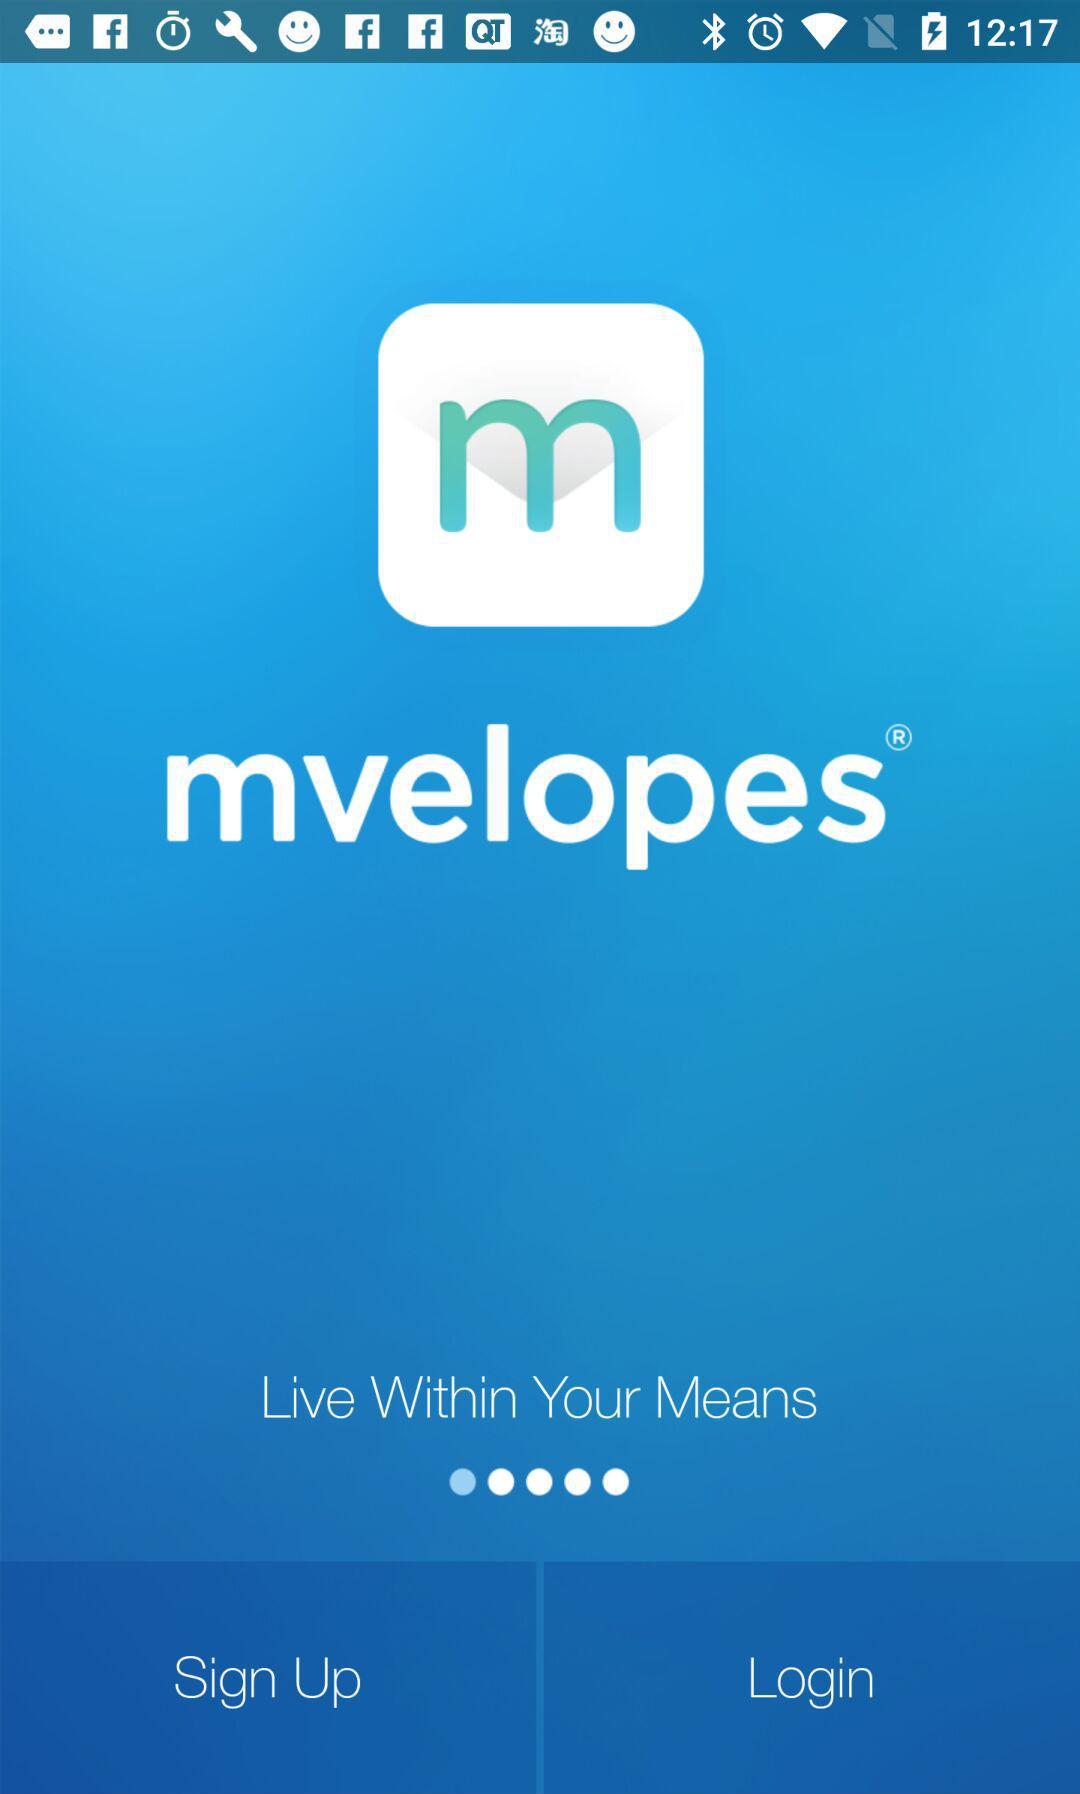Image: (377, 302, 706, 629)
PageIndicator: (447, 1466, 632, 1498)
Text: (167, 721, 915, 871), (263, 1374, 817, 1420)
TextButton: (544, 1561, 1080, 1794), (1, 1562, 536, 1794)
UpperTaskBar: (1, 1, 1080, 64)
